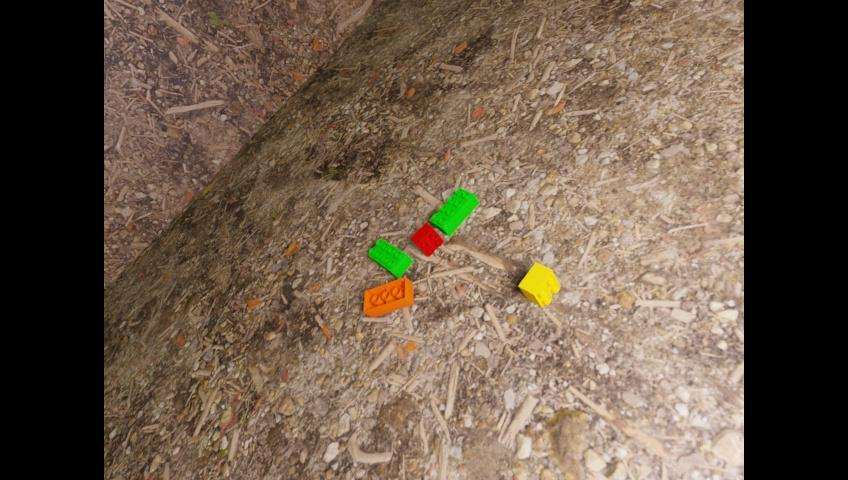2x2_red: (409, 222, 443, 256)
2x2_yellow: (518, 262, 559, 307)
4x2_green: (430, 187, 478, 236), (368, 238, 412, 278)
4x2_orange: (363, 276, 412, 317)
